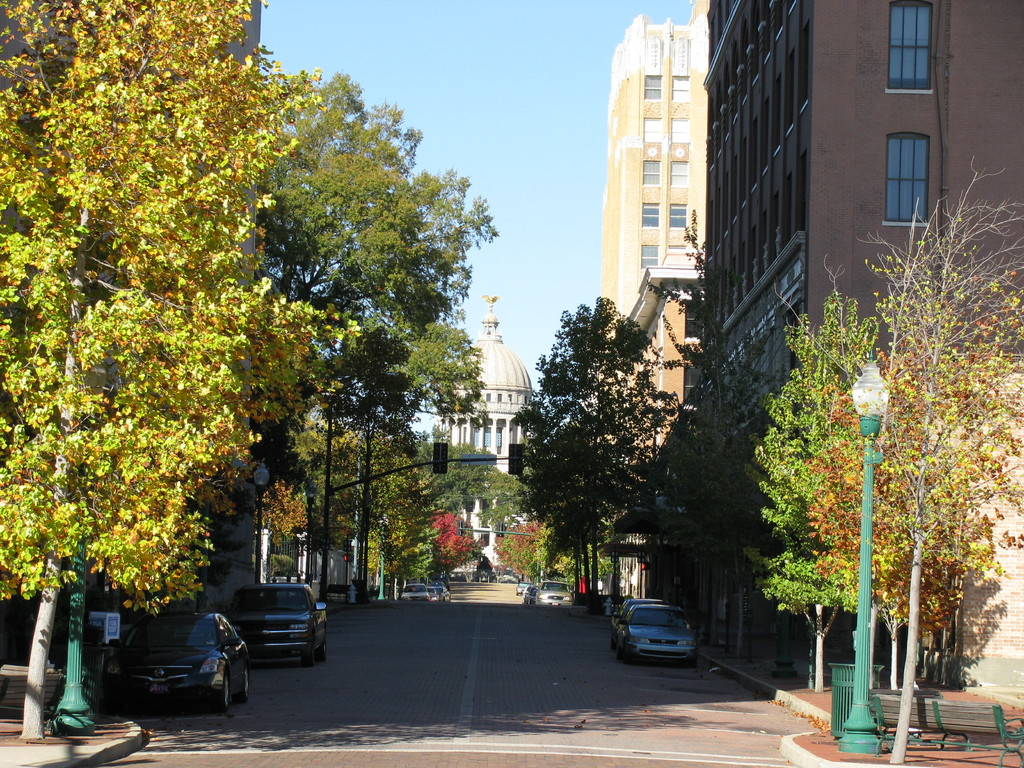Car: (97, 609, 252, 710), (616, 600, 698, 663), (611, 599, 668, 652), (531, 579, 572, 608), (397, 582, 433, 602), (434, 584, 447, 603), (521, 583, 535, 598), (515, 581, 528, 595)
